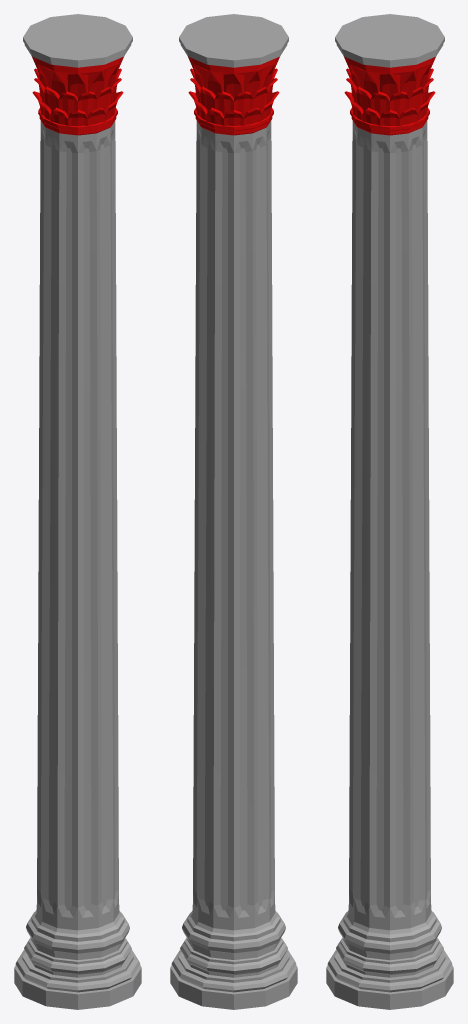
File: SM_Bld_Pillar_Large_05.fbx
3 renders of one model, left to right at view 1: azimuth 30°, elevation 25°; view 2: azimuth 150°, elevation 25°; view 3: azimuth 330°, elevation 25°, orthographic.
Visible parts, largest first — view 1: SM_Bld_Pillar_Large_05; view 2: SM_Bld_Pillar_Large_05; view 3: SM_Bld_Pillar_Large_05.
Part boxes in pixels (bbox=[...]): SM_Bld_Pillar_Large_05: bbox=[14, 14, 141, 1009]; SM_Bld_Pillar_Large_05: bbox=[170, 14, 297, 1009]; SM_Bld_Pillar_Large_05: bbox=[326, 14, 453, 1009].
Bounding box in the file's own units: 73.31 × 600 × 73.31.
